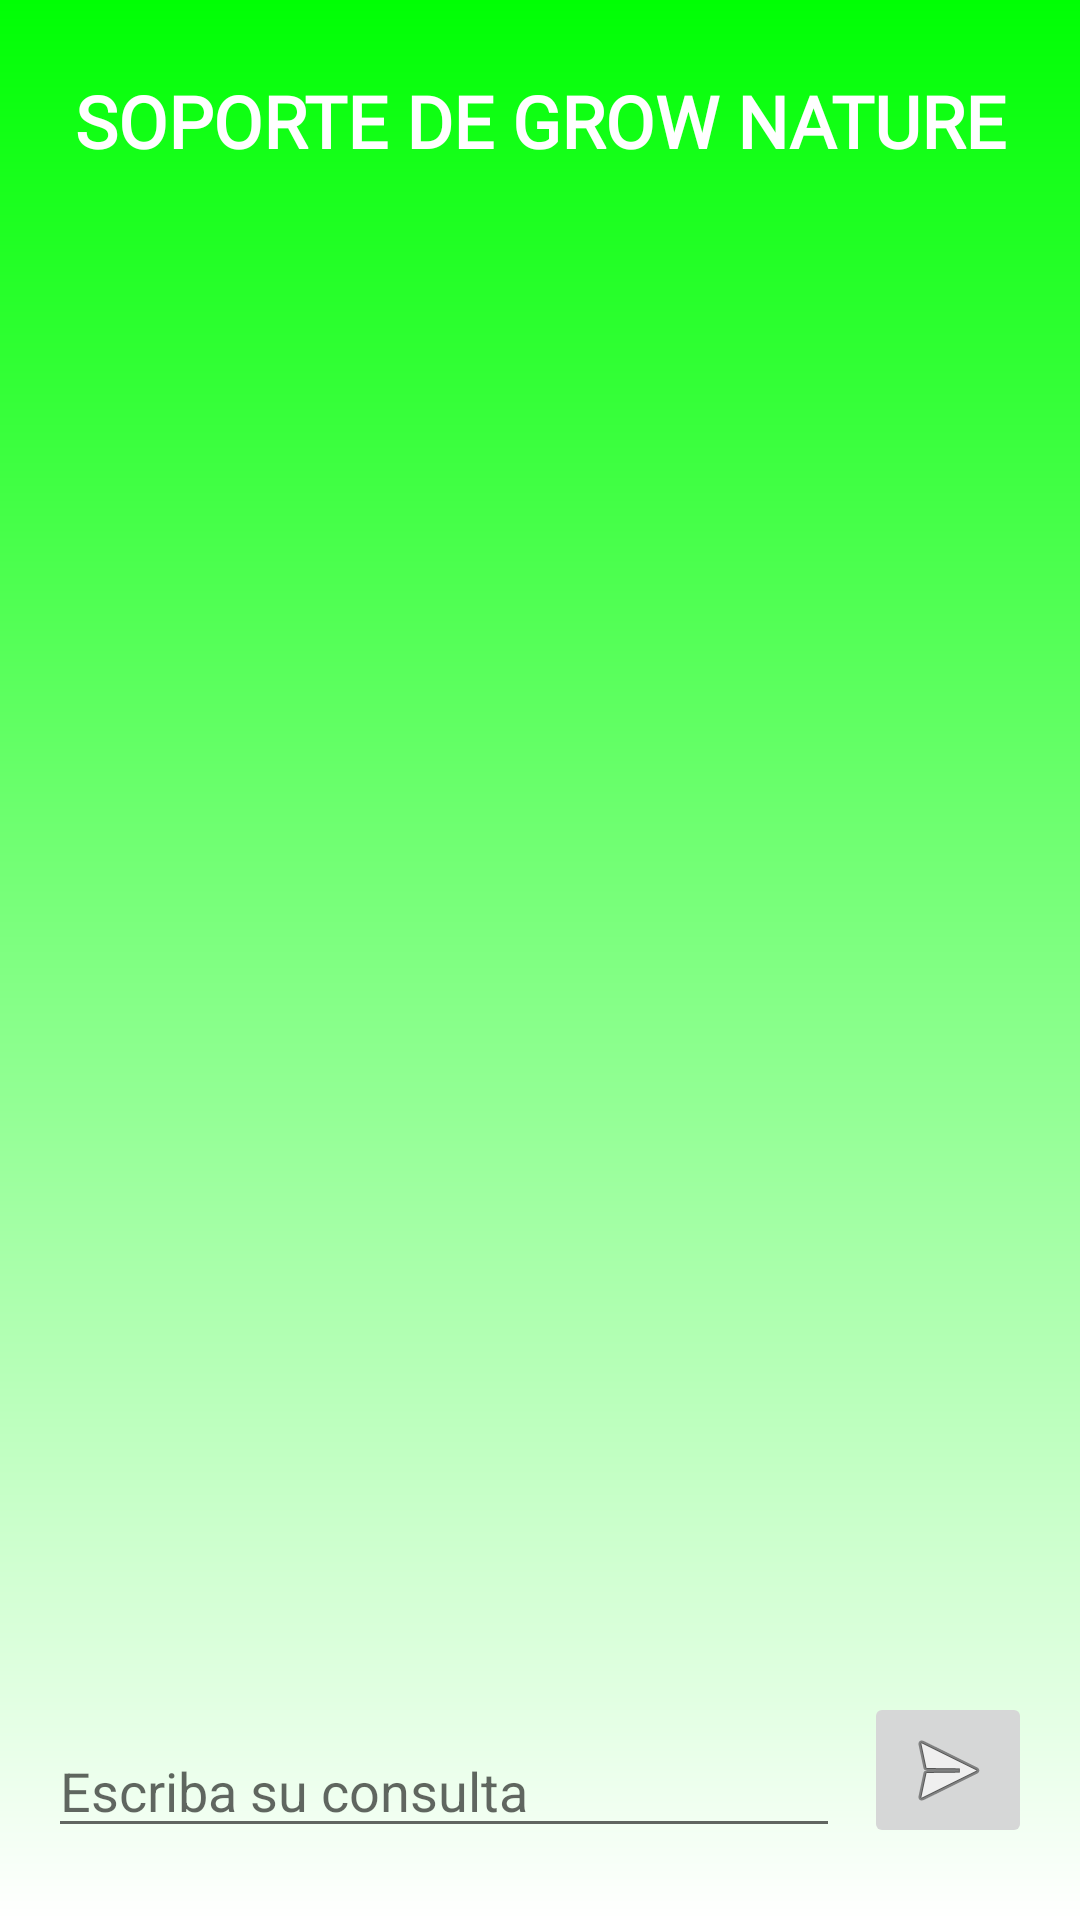

Icons on this 1080×1920 Android screen, each with its box as {"x1": x1, "y1": y1, "x2": x2, "y2": y2}:
send: {"x1": 876, "y1": 1710, "x2": 1020, "y2": 1830}
